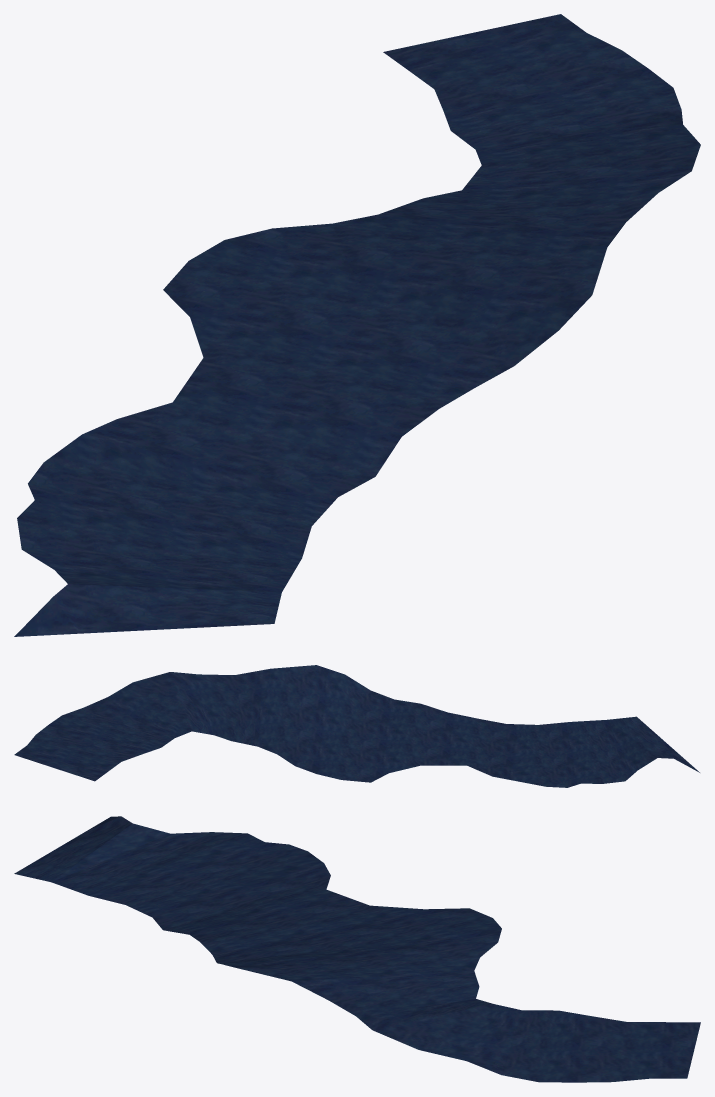
The model's file is water04.fbx.
The picture shows the model from 3 angles, top to bottom: view 1: azimuth 30°, elevation 25°; view 2: azimuth 150°, elevation 25°; view 3: azimuth 270°, elevation 25°; orthographic projection. The views are drawn at different scales.
Visible parts, largest first — view 1: obj0.171; view 2: obj0.171; view 3: obj0.171.
Boxes of the visible parts, <box> form: obj0.171: <box>14,14,700,636</box>; obj0.171: <box>14,665,699,787</box>; obj0.171: <box>14,816,700,1082</box>.
Bounding box in the file's own units: 53.53 × 6.56 × 46.21.
